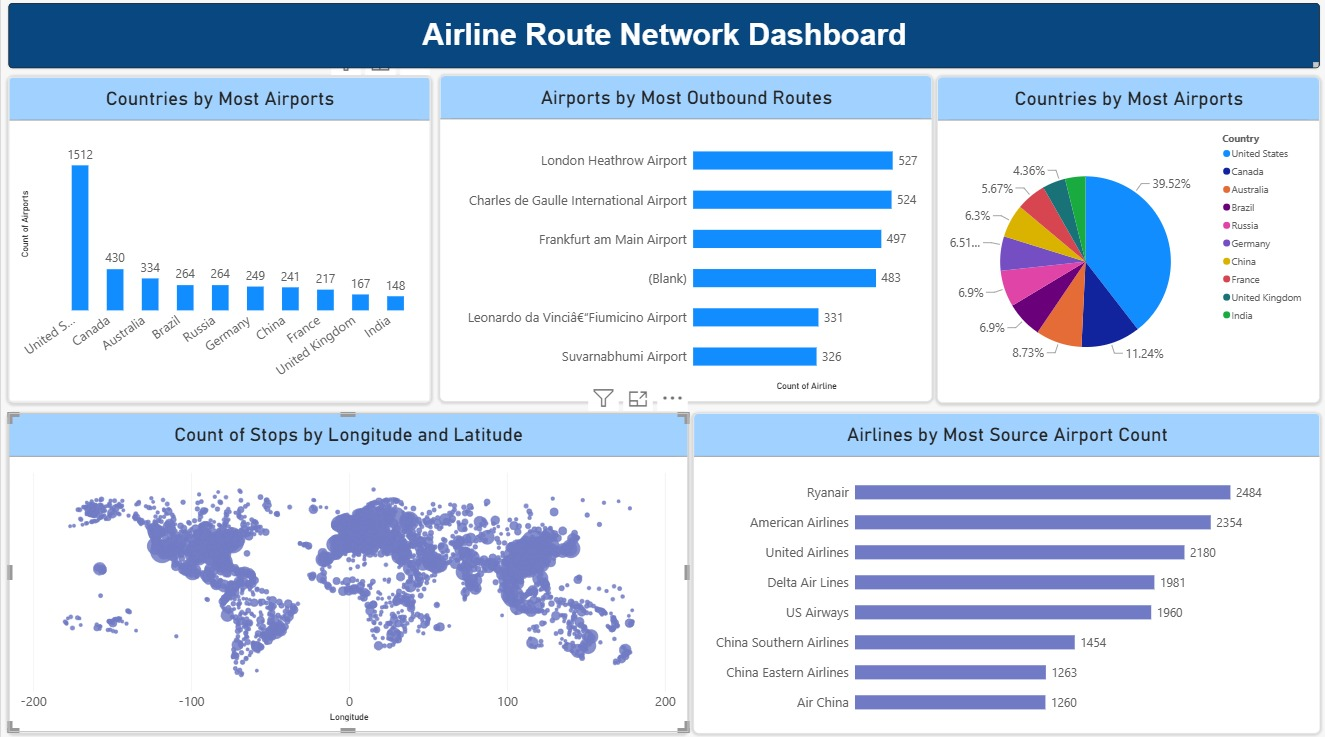

This screenshot's page, from the dashboard's own definition file:
{"tool":"powerbi","page":{"name":"Page 1","canvas":[1920,1080],"ordinal":0},"visuals":[{"type":"clusteredBarChart","title":"Airports by Most Outbound Routes","fields":{"Category":["airports.Name"],"Y":["CountNonNull(routes.Airline)"]},"box":[636,120,713,472.2],"z":0},{"type":"clusteredColumnChart","title":"Countries by Most Airports","fields":{"Category":["airports.Country"],"Y":["CountNonNull(airports.Airport_ID)"]},"box":[11.1,120.4,611.1,472.2],"z":1000},{"type":"clusteredBarChart","title":"Airlines by Most Source Airport Count","fields":{"Category":["airlines.Name"],"Y":["CountNonNull(routes.Source_Airport)"]},"box":[1001.9,607.4,907.4,463.7],"z":2000},{"type":"scatterChart","fields":{"Size":["CountNonNull(routes.Stops)"],"X":["airports.Longitude"],"Y":["airports.Latitude"]},"box":[10.7,607.4,983.7,463],"z":3000},{"type":"textbox","title":"Airline Route Network Dashboard","box":[11.1,14.8,1898.1,94.4],"z":4000},{"type":"pieChart","title":"Countries by Most Airports","fields":{"Category":["airports.Country"],"Y":["CountNonNull(airports.Name)"]},"box":[1355.6,120.4,553.7,472.2],"z":5000}]}

Visuals, with their boxes in screenshot pixels (x1, y1, x2, y2), scaled from the page's 1920x1080 canvas onto the 1325x737 screenshot:
"Airports by Most Outbound Routes" clusteredBarChart: [left=439, top=82, right=931, bottom=404]
"Countries by Most Airports" clusteredColumnChart: [left=8, top=82, right=429, bottom=404]
"Airlines by Most Source Airport Count" clusteredBarChart: [left=691, top=414, right=1318, bottom=731]
scatterChart - CountNonNull(routes.Stops) x airports.Longitude: [left=7, top=414, right=686, bottom=730]
"Airline Route Network Dashboard" textbox: [left=8, top=10, right=1318, bottom=75]
"Countries by Most Airports" pieChart: [left=936, top=82, right=1318, bottom=404]
